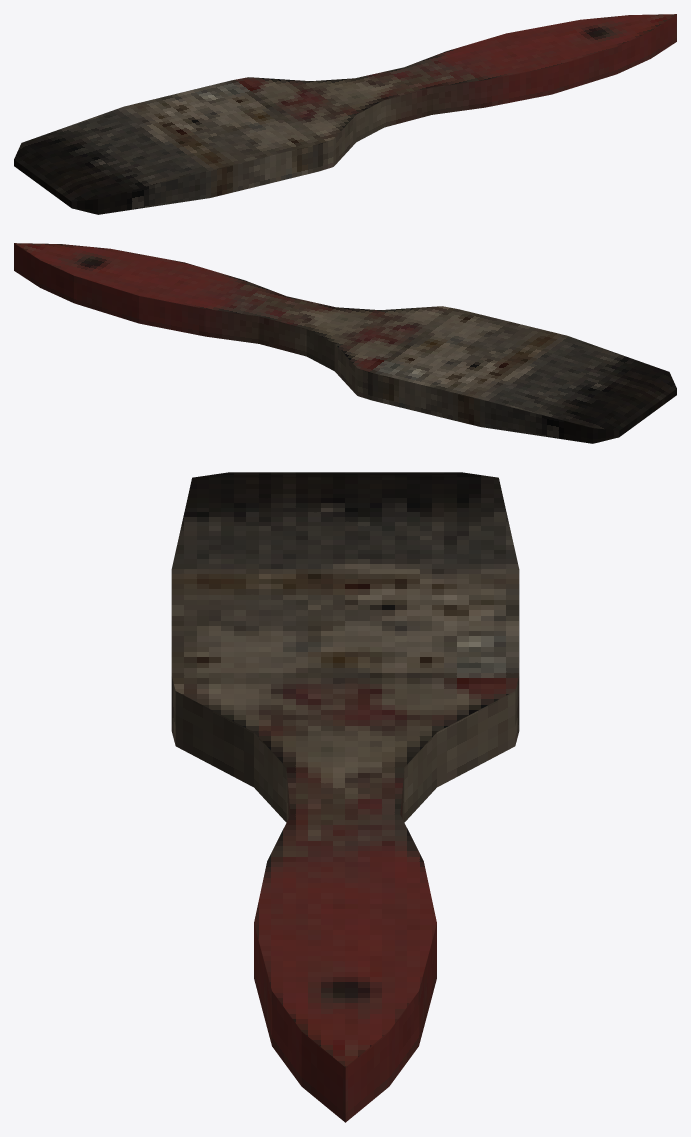
The model's file is paint_brush_mr_1.glb.
3 views of the same model, one above another, from view 1: azimuth 30°, elevation 25°; view 2: azimuth 150°, elevation 25°; view 3: azimuth 270°, elevation 25° (orthographic). The views are drawn at different scales.
Parts seen in each view (by area): view 1: paint_brush_mr_1; view 2: paint_brush_mr_1; view 3: paint_brush_mr_1.
Part boxes in pixels (x1,y1,x2,y2): paint_brush_mr_1: (14,14,676,214); paint_brush_mr_1: (14,243,676,443); paint_brush_mr_1: (171,472,519,1122).
Bounding box in the file's own units: 0.36 × 0.015 × 0.0855.
1 material, 1 textured.
